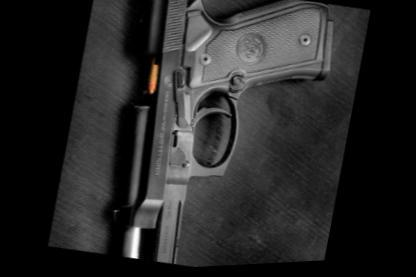pistol: (92, 0, 350, 271)
